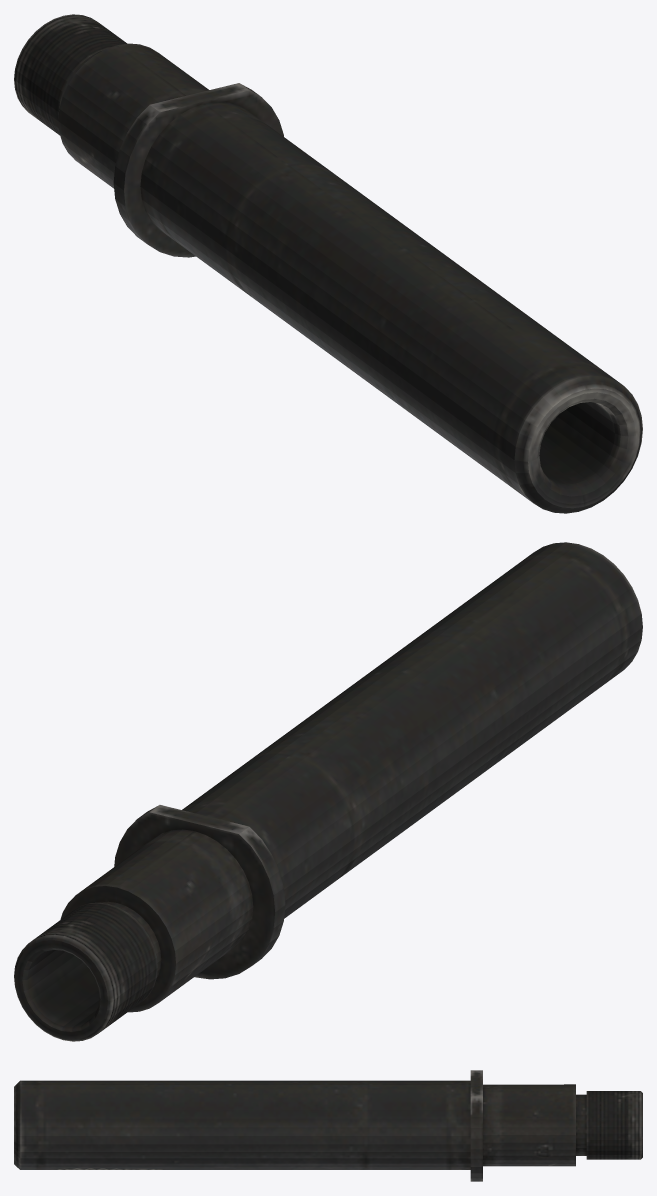
3 views of the same model, one above another, from view 1: azimuth 30°, elevation 25°; view 2: azimuth 150°, elevation 25°; view 3: azimuth 270°, elevation 25° (orthographic). The views are drawn at different scales.
Visible parts, largest first — view 1: TW_668031705014e211b4078046_PZ_Import; view 2: TW_668031705014e211b4078046_PZ_Import; view 3: TW_668031705014e211b4078046_PZ_Import.
Part boxes in pixels (bbox=[...]): TW_668031705014e211b4078046_PZ_Import: bbox=[14, 14, 642, 513]; TW_668031705014e211b4078046_PZ_Import: bbox=[14, 542, 642, 1041]; TW_668031705014e211b4078046_PZ_Import: bbox=[14, 1070, 642, 1181].
Bounding box in the file's own units: 0.0116 × 0.065 × 0.0106.
Materials: 1 (1 with a texture image).
